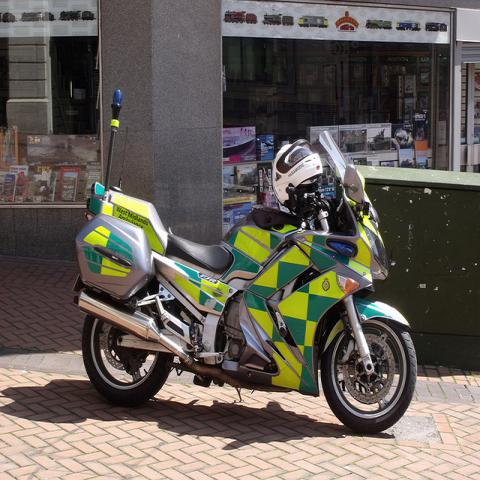motorcycle: (73, 83, 420, 435)
